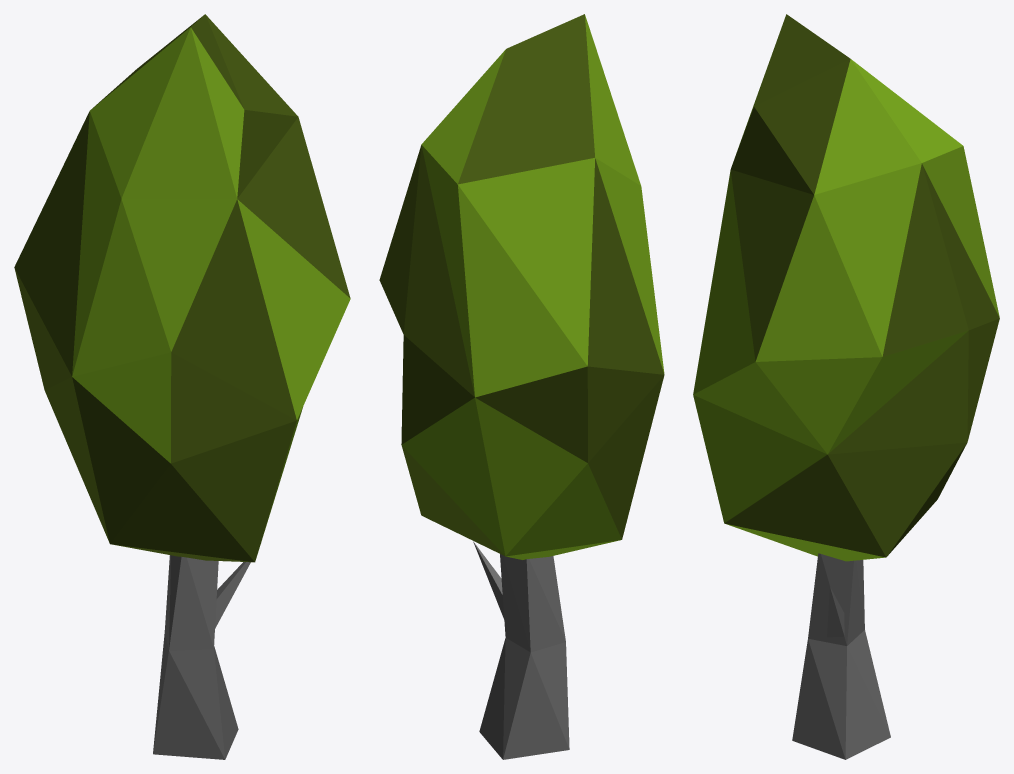
File: Tree1_M1_5_medium.fbx
3 renders of one model, left to right at view 1: azimuth 30°, elevation 25°; view 2: azimuth 150°, elevation 25°; view 3: azimuth 270°, elevation 25°, orthographic. The views are drawn at different scales.
Visible parts, largest first — view 1: Tree1_M1_5_medium; view 2: Tree1_M1_5_medium; view 3: Tree1_M1_5_medium.
Boxes of the visible parts, left/top/right/bottom form: Tree1_M1_5_medium: left=14, top=14, right=350, bottom=759; Tree1_M1_5_medium: left=379, top=14, right=664, bottom=759; Tree1_M1_5_medium: left=693, top=14, right=999, bottom=759.
Bounding box in the file's own units: 115 × 309 × 121.
